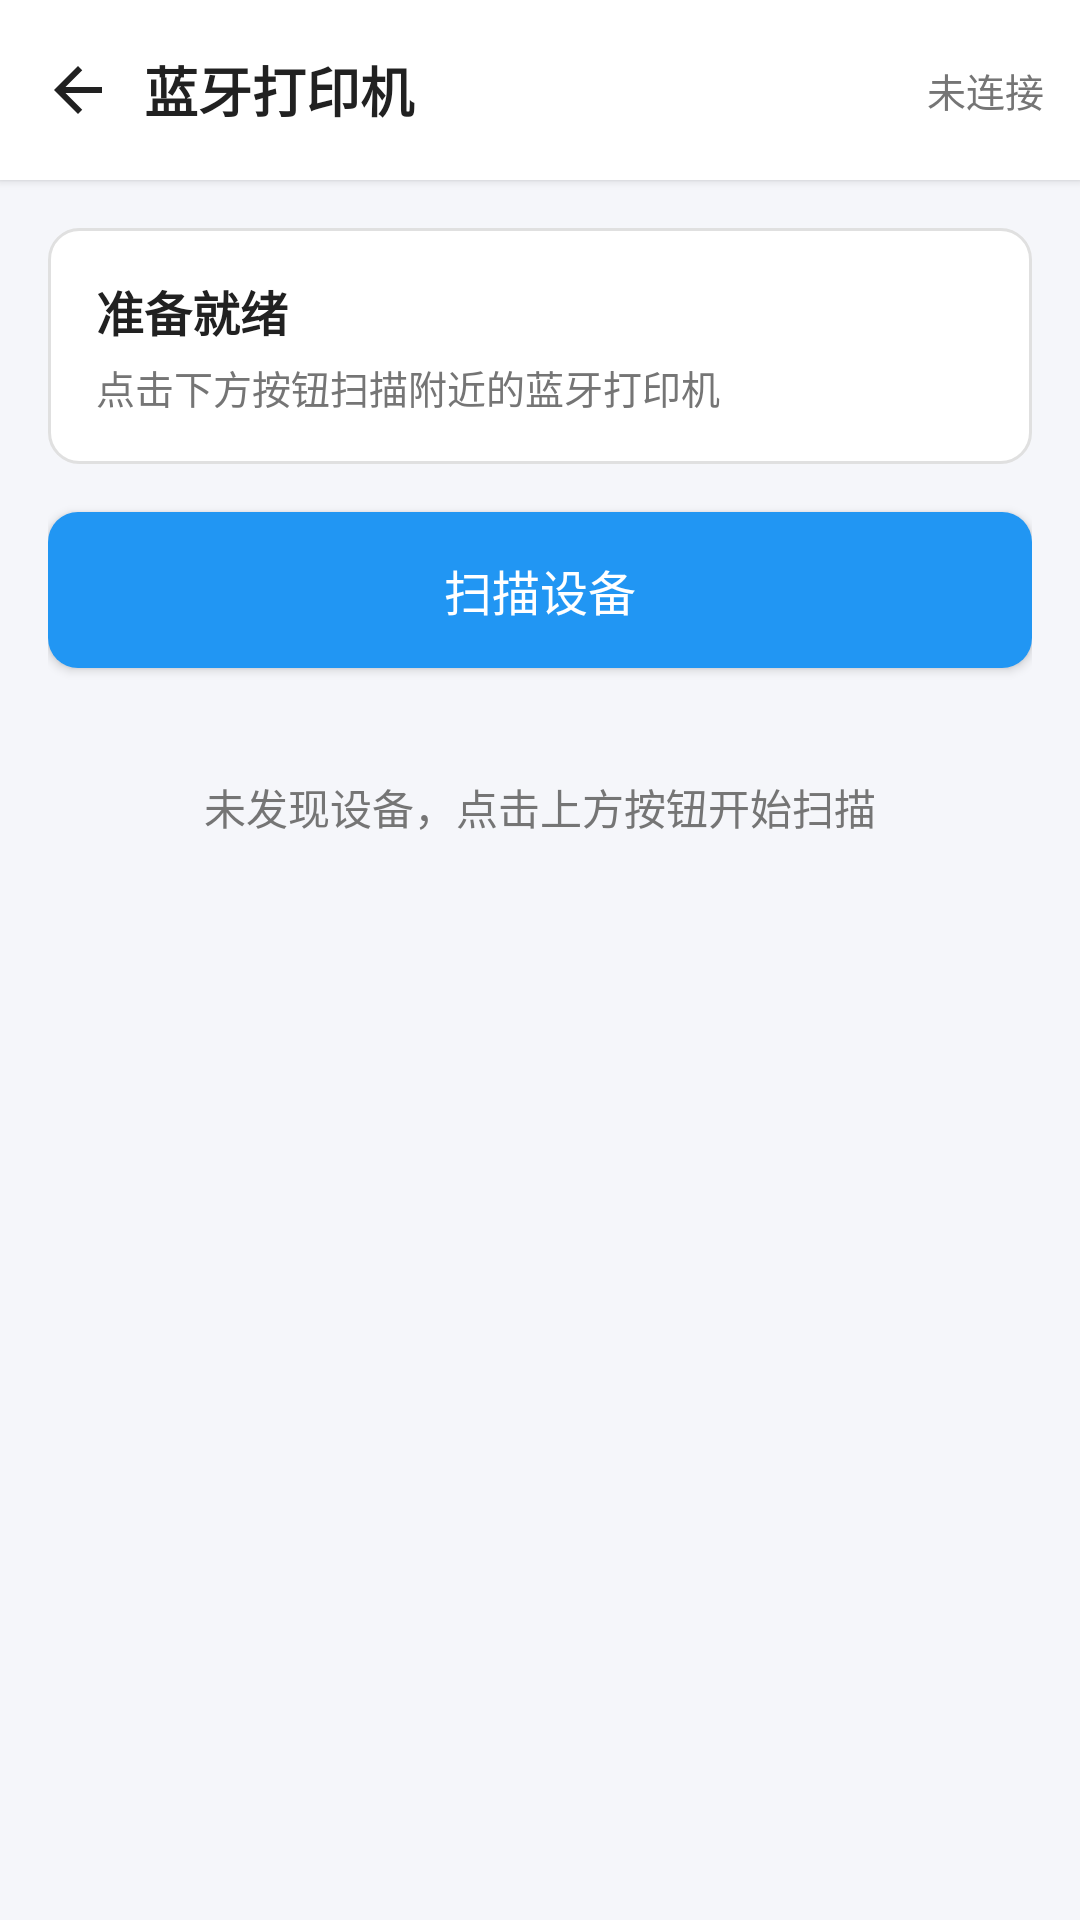

Icon click points for this 1080 × 1920 phone screenshot, format (x,y):
返回: (78,90)
